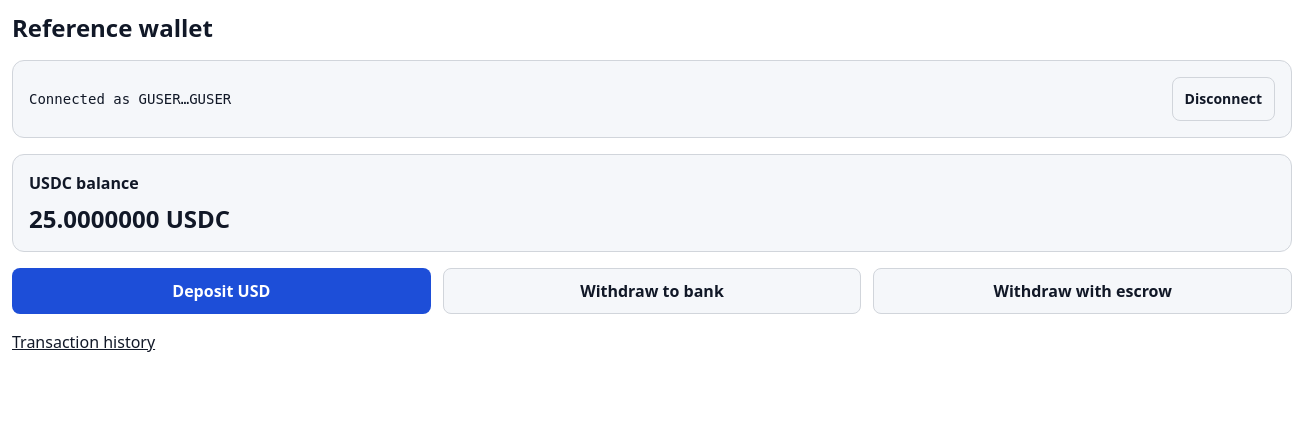
Test case: WalletHome › surfaces anchor errors
Click the button "Withdraw to bank".
click(652, 291)  # box [443,268,861,314]
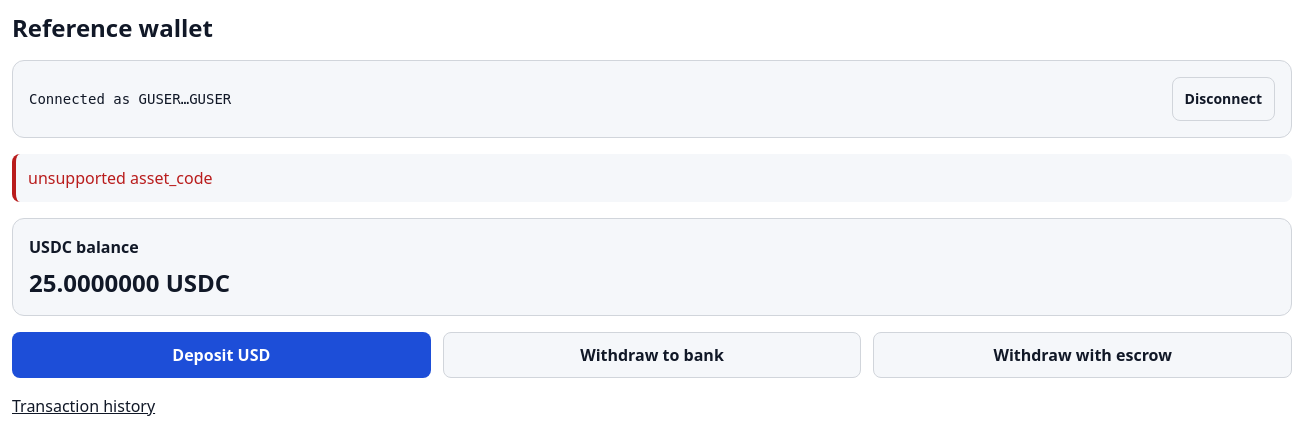
Now the message reads "unsupported asset_code", box [28,167,212,189]
